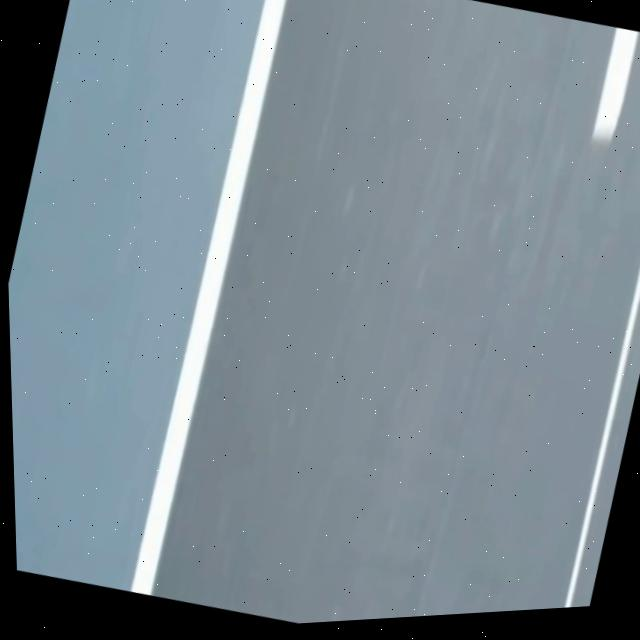center: (591, 27, 638, 141)
left: (130, 0, 285, 595)
